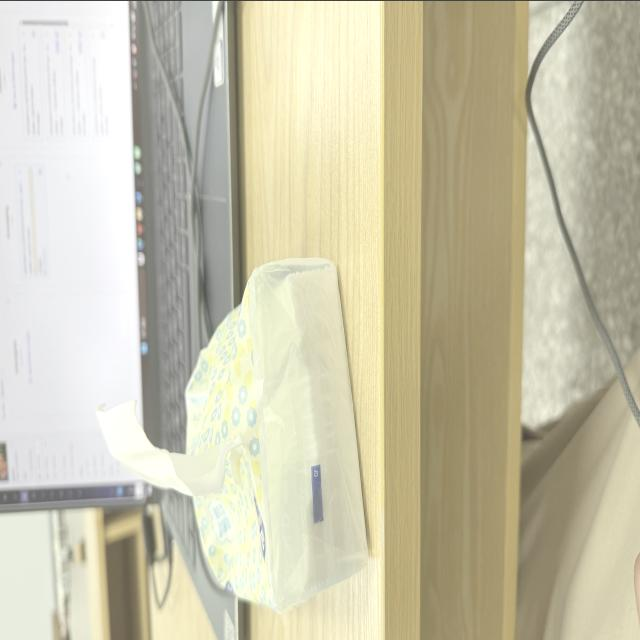tissue: (99, 258, 366, 610)
